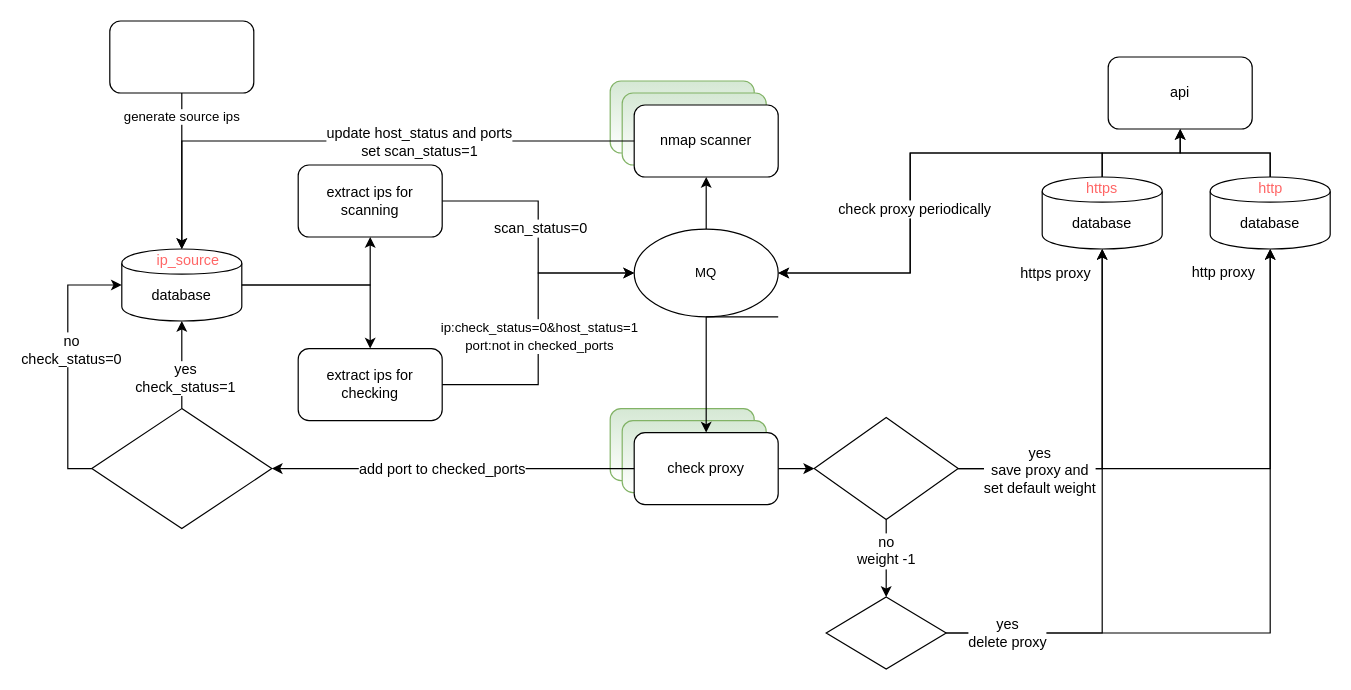
This 1351x690 diagram has some shape labels left out. Here are the shapes that lost their labels. From the top down, the centre of each, then its label:
point 181,56: download apnic file
point 181,468: checked_ports = opened_ports?
point 885,468: proxy accessible?
point 885,632: weight<0?
